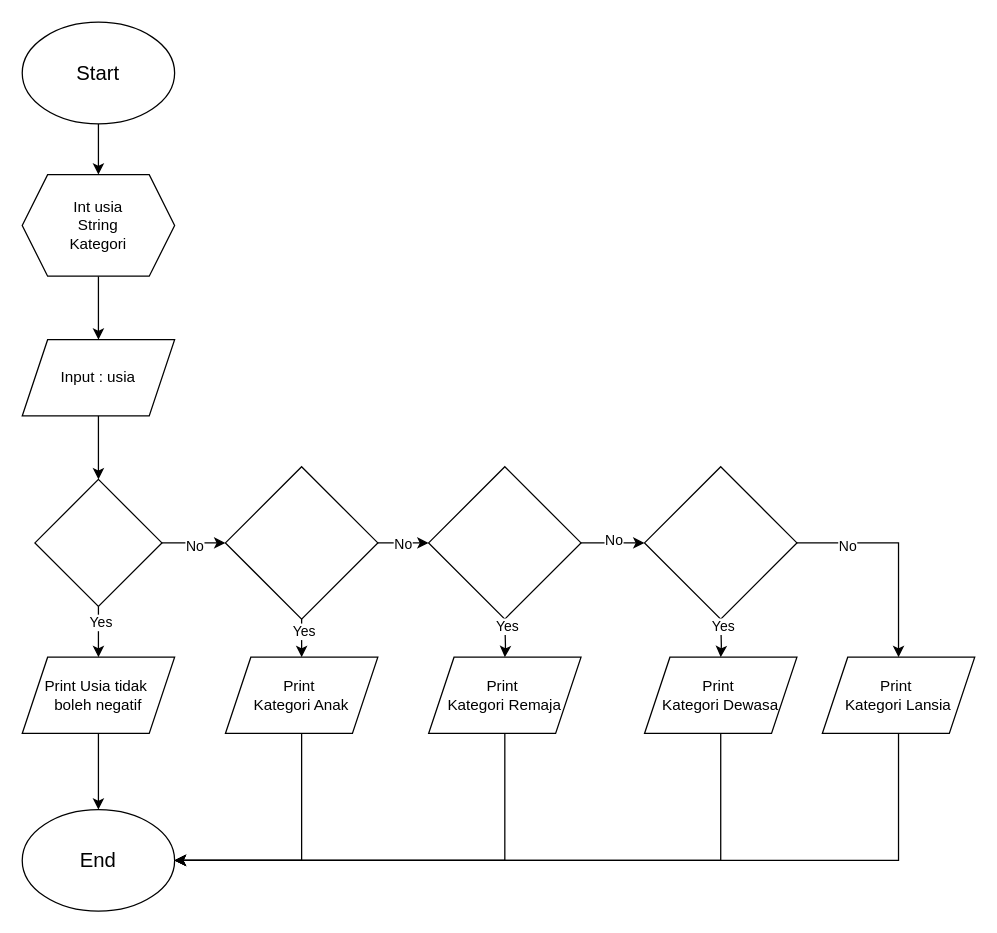
The diagram is 997 pixels wide and 933 high, and some of its shapes have lost their labels. Here are the shapes that lost their labels. From the top down, the centre of each, then its label:
the point at 98,542: if usia < 0
the point at 301,542: if usia >= 0 dan usia <= 12
the point at 504,542: if usia >= 13 dan usia <= 19
the point at 720,542: if usia >= 20 dan usia <= 64
